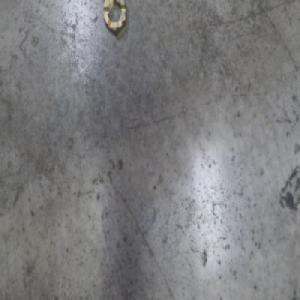Nut: (101, 0, 128, 35)
